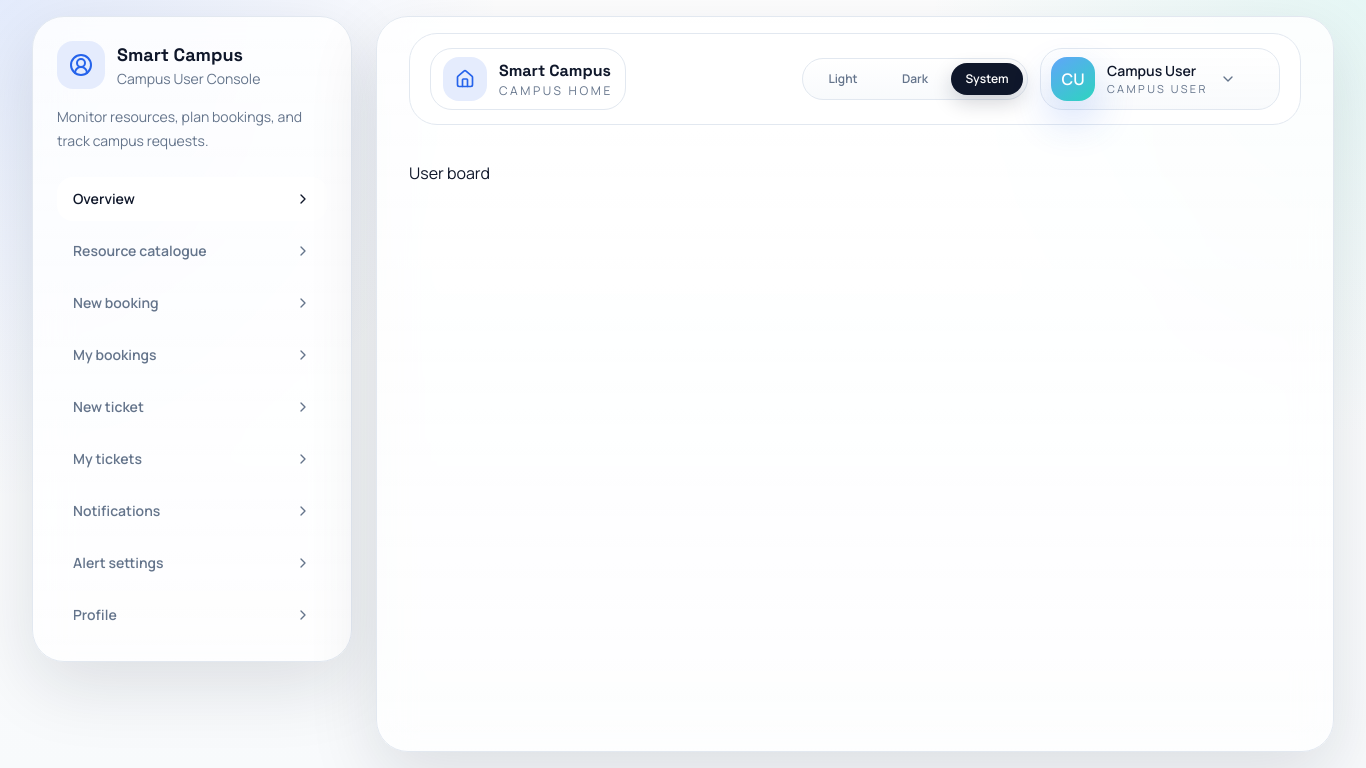
Test: app navigation chrome › hides the google link action for google-only accounts
This screenshot has width=1366, height=768.
What coordinates should you click on to do the following:
click the button with aria-label "open user menu"
I would click on:
 (1160, 79)
Its box is x1=1040 y1=48 x2=1280 y2=110.
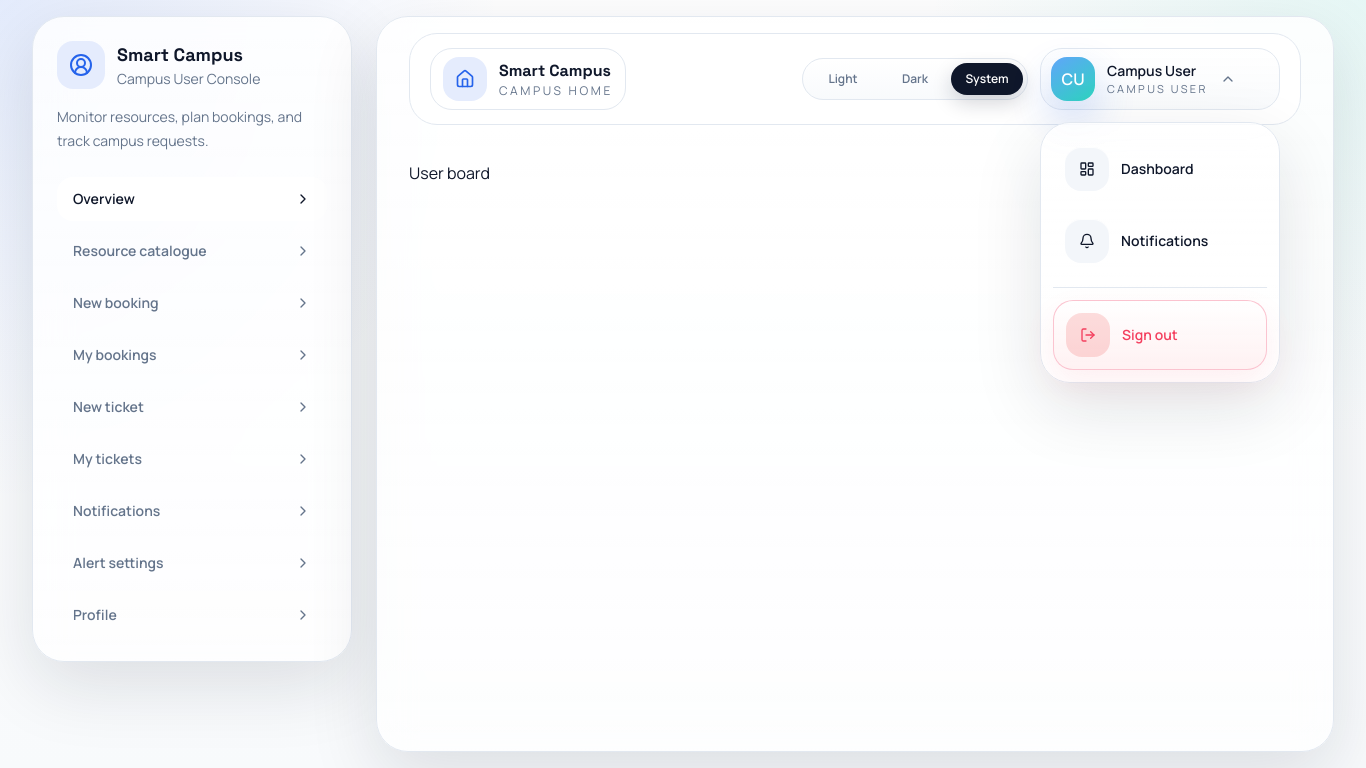
Expected: the text "Dashboard" is shown, x1=1121 y1=159 x2=1194 y2=179
